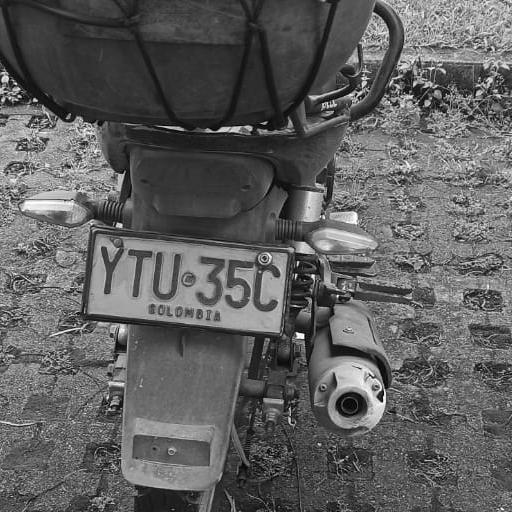placa: (82, 225, 294, 338)
